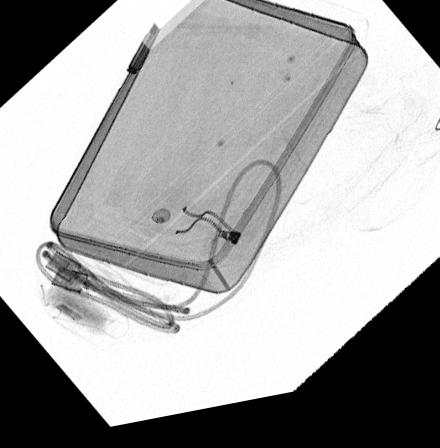Bullet: (125, 21, 162, 80)
